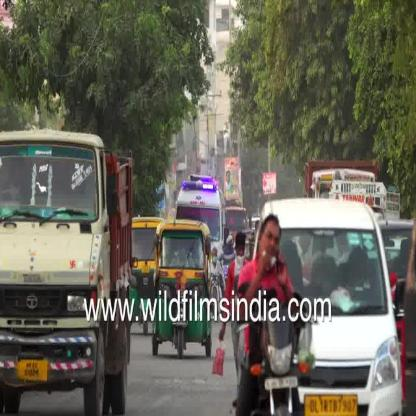priority: (176, 177, 226, 227)
